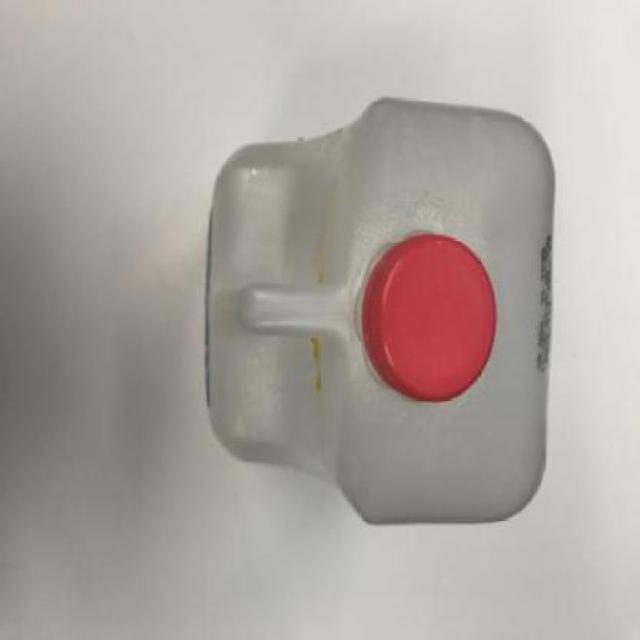PLASTIC: (206, 97, 557, 525), (363, 232, 499, 400)
